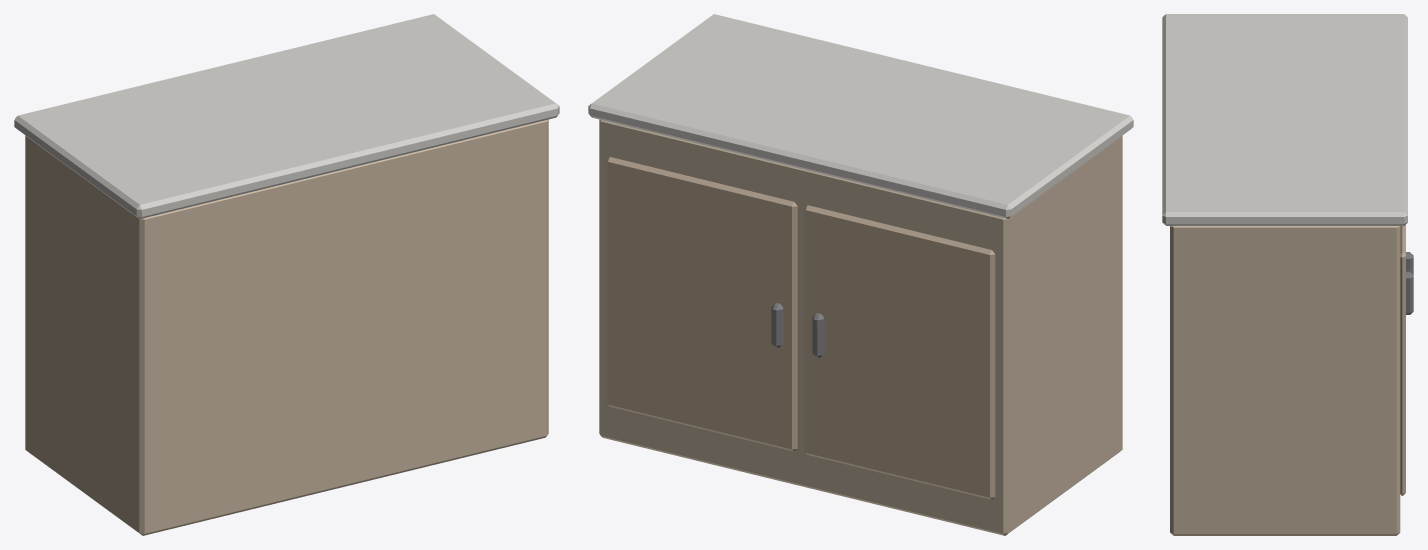
The model's file is kit_moveis_armario.glb.
The picture shows the model from 3 angles, left to right: view 1: azimuth 30°, elevation 25°; view 2: azimuth 150°, elevation 25°; view 3: azimuth 270°, elevation 25°; orthographic projection. The views are drawn at different scales.
Visible parts, largest first — view 1: KIT_Moveis_Armario_v01; view 2: KIT_Moveis_Armario_v01; view 3: KIT_Moveis_Armario_v01.
Boxes of the visible parts, box(x1,y1,x2,y2) form: KIT_Moveis_Armario_v01: box(14, 14, 559, 535); KIT_Moveis_Armario_v01: box(588, 14, 1133, 535); KIT_Moveis_Armario_v01: box(1162, 14, 1413, 535).
Size of the model in its own units: 1.24 by 0.94 by 0.655.
